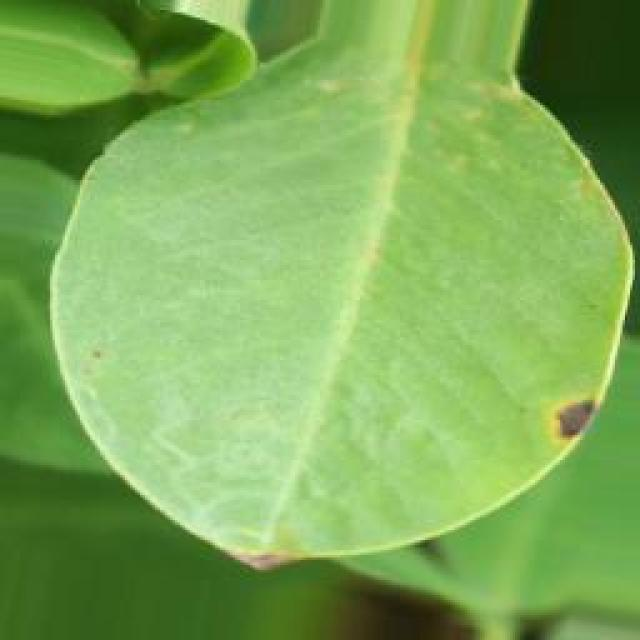Early_leaf_spot: (512, 364, 603, 454), (216, 523, 316, 575), (58, 332, 126, 400)
